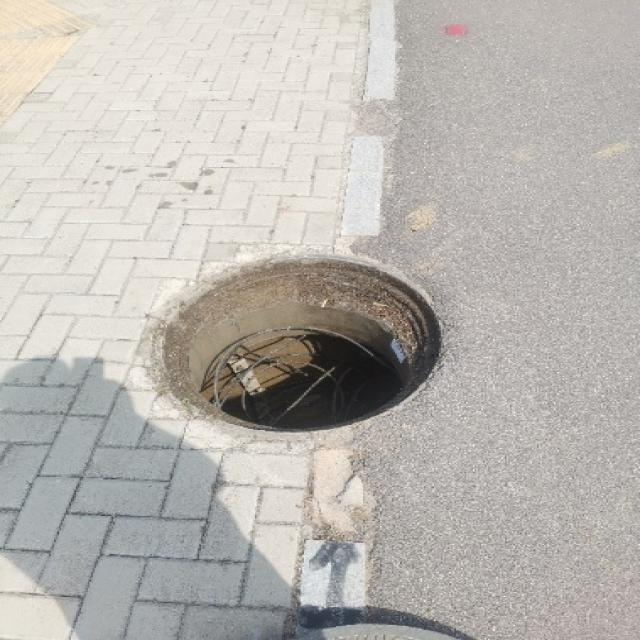Uncovered: (115, 242, 465, 439)
